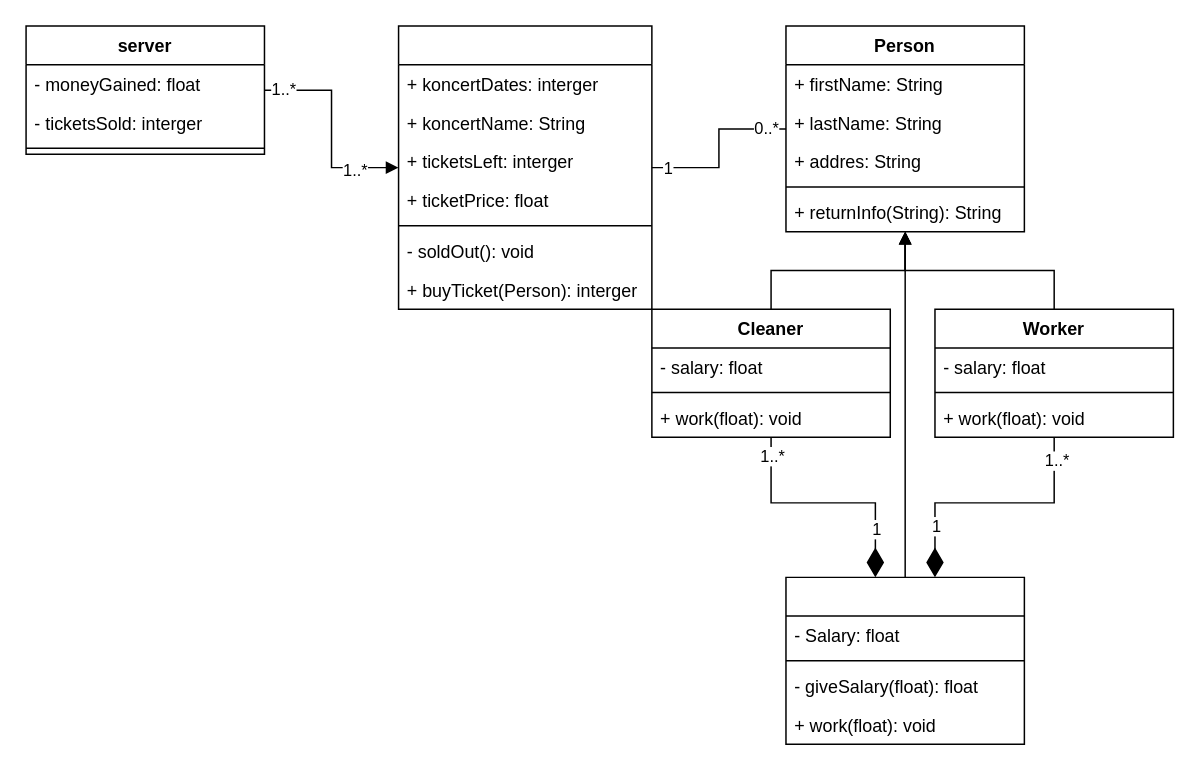
This 1199x775 diagram has some shape labels left out. The shapes that lost their labels are listed below. From the top down, each one's box as (x1, y1, x2, y2) in pixels, then its label:
(397, 25, 652, 309): Website
(784, 576, 1024, 744): Administrator
